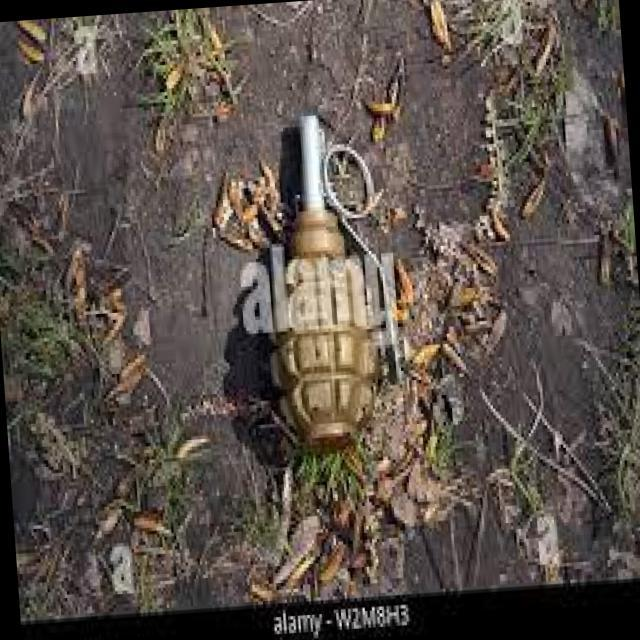grenade: (230, 104, 396, 466)
